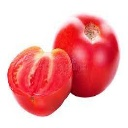tomato: (52, 15, 123, 97), (7, 45, 75, 116)
